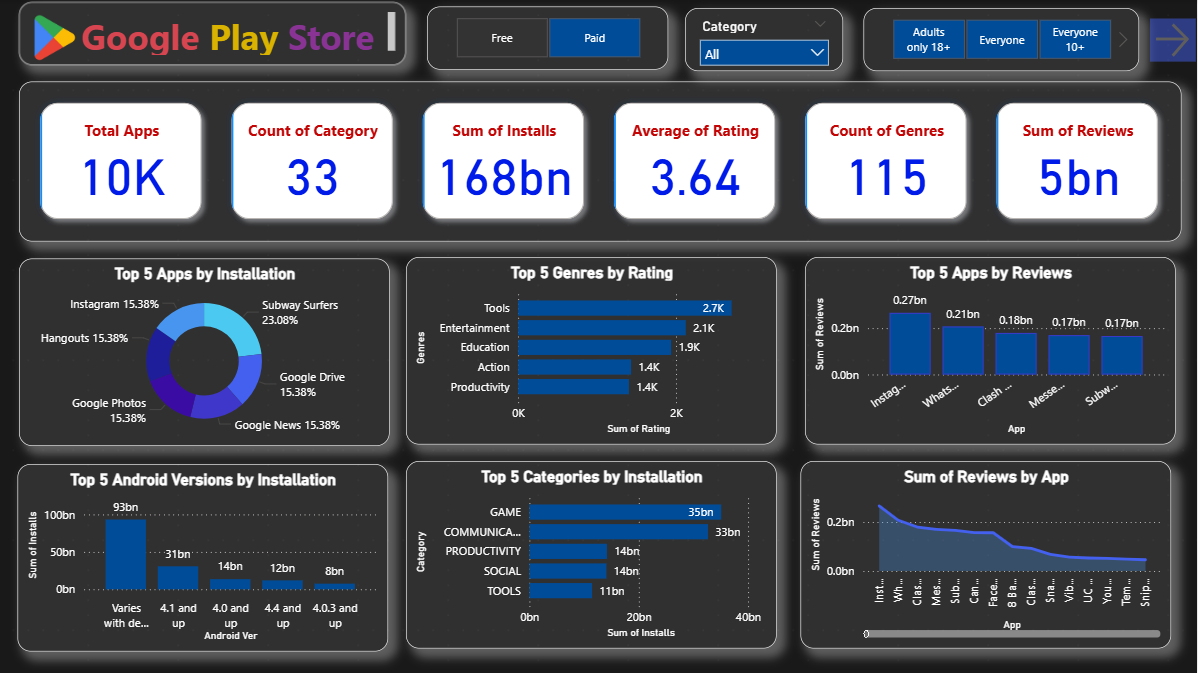

The page's visual inventory and layout, read from the dashboard file:
{"tool":"powerbi","page":{"name":"Page 1","canvas":[1280,720],"ordinal":0},"visuals":[{"type":"cardVisual","fields":{"Data":["googleplaystore (1).Total Apps","Count(googleplaystore (1).Category)","Sum(googleplaystore (1).Installs)","Avg(googleplaystore (1).Rating)","Count(googleplaystore (1).Genres)","Sum(googleplaystore (1).Reviews)"]},"box":[23,88.3,1240.3,170.9],"z":0},{"type":"donutChart","title":"Top 5 Apps by Installation","fields":{"Category":["googleplaystore (1).App"],"Y":["Sum(googleplaystore (1).Installs)"]},"box":[23,276.5,395.5,199.7],"z":1000},{"type":"barChart","title":"Top 5 Genres by Rating","fields":{"Category":["googleplaystore (1).Genres"],"Y":["Sum(googleplaystore (1).Rating)"]},"box":[435.8,274.6,395.5,199.7],"z":2000},{"type":"columnChart","title":"Top 5 Apps by Reviews","fields":{"Category":["googleplaystore (1).App"],"Y":["Sum(googleplaystore (1).Reviews)"]},"box":[860.2,274.6,395.5,199.7],"z":3000},{"type":"columnChart","title":"Top 5 Android Versions by Installation","fields":{"Category":["googleplaystore (1).Android Ver"],"Y":["Sum(googleplaystore (1).Installs)"]},"box":[21.1,495.4,395,200],"z":4000},{"type":"barChart","title":"Top 5 Categories by Installation","fields":{"Category":["googleplaystore (1).Category"],"Y":["Sum(googleplaystore (1).Installs)"]},"box":[435.8,493.4,395.5,199.7],"z":5000},{"type":"areaChart","fields":{"Category":["googleplaystore (1).App"],"Y":["Sum(googleplaystore (1).Reviews)"]},"box":[856.3,493.4,395.5,199.7],"z":6000},{"type":"slicer","fields":{"Values":["googleplaystore (1).Type"]},"box":[457,7.7,257.3,67.2],"z":7000},{"type":"textbox","box":[23,3.8,412.8,67],"z":8000},{"type":"image","box":[32.6,9.6,55.7,63.4],"z":9000},{"type":"slicer","fields":{"Values":["googleplaystore (1).Category"]},"box":[733.4,9.6,169,67.2],"z":10000},{"type":"slicer","fields":{"Values":["googleplaystore (1).Content Rating"]},"box":[923.5,9.6,293.8,67.2],"z":11000},{"type":"actionButton","box":[1228.8,21.1,49.9,46.1],"z":11001}]}

Visuals, with their boxes in screenshot pixels (x1, y1, x2, y2), scaled from the page's 1280x720 canvas onto the 1198x673 screenshot:
cardVisual - googleplaystore (1).Total Apps x Count(googleplaystore (1).Category): {"left": 22, "top": 83, "right": 1182, "bottom": 242}
"Top 5 Apps by Installation" donutChart: {"left": 22, "top": 258, "right": 392, "bottom": 445}
"Top 5 Genres by Rating" barChart: {"left": 408, "top": 257, "right": 778, "bottom": 443}
"Top 5 Apps by Reviews" columnChart: {"left": 805, "top": 257, "right": 1175, "bottom": 443}
"Top 5 Android Versions by Installation" columnChart: {"left": 20, "top": 463, "right": 389, "bottom": 650}
"Top 5 Categories by Installation" barChart: {"left": 408, "top": 461, "right": 778, "bottom": 648}
areaChart - googleplaystore (1).App x Sum(googleplaystore (1).Reviews): {"left": 801, "top": 461, "right": 1172, "bottom": 648}
slicer - googleplaystore (1).Type: {"left": 428, "top": 7, "right": 669, "bottom": 70}
textbox: {"left": 22, "top": 4, "right": 408, "bottom": 66}
image: {"left": 31, "top": 9, "right": 83, "bottom": 68}
slicer - googleplaystore (1).Category: {"left": 686, "top": 9, "right": 845, "bottom": 72}
slicer - googleplaystore (1).Content Rating: {"left": 864, "top": 9, "right": 1139, "bottom": 72}
actionButton: {"left": 1150, "top": 20, "right": 1197, "bottom": 63}
